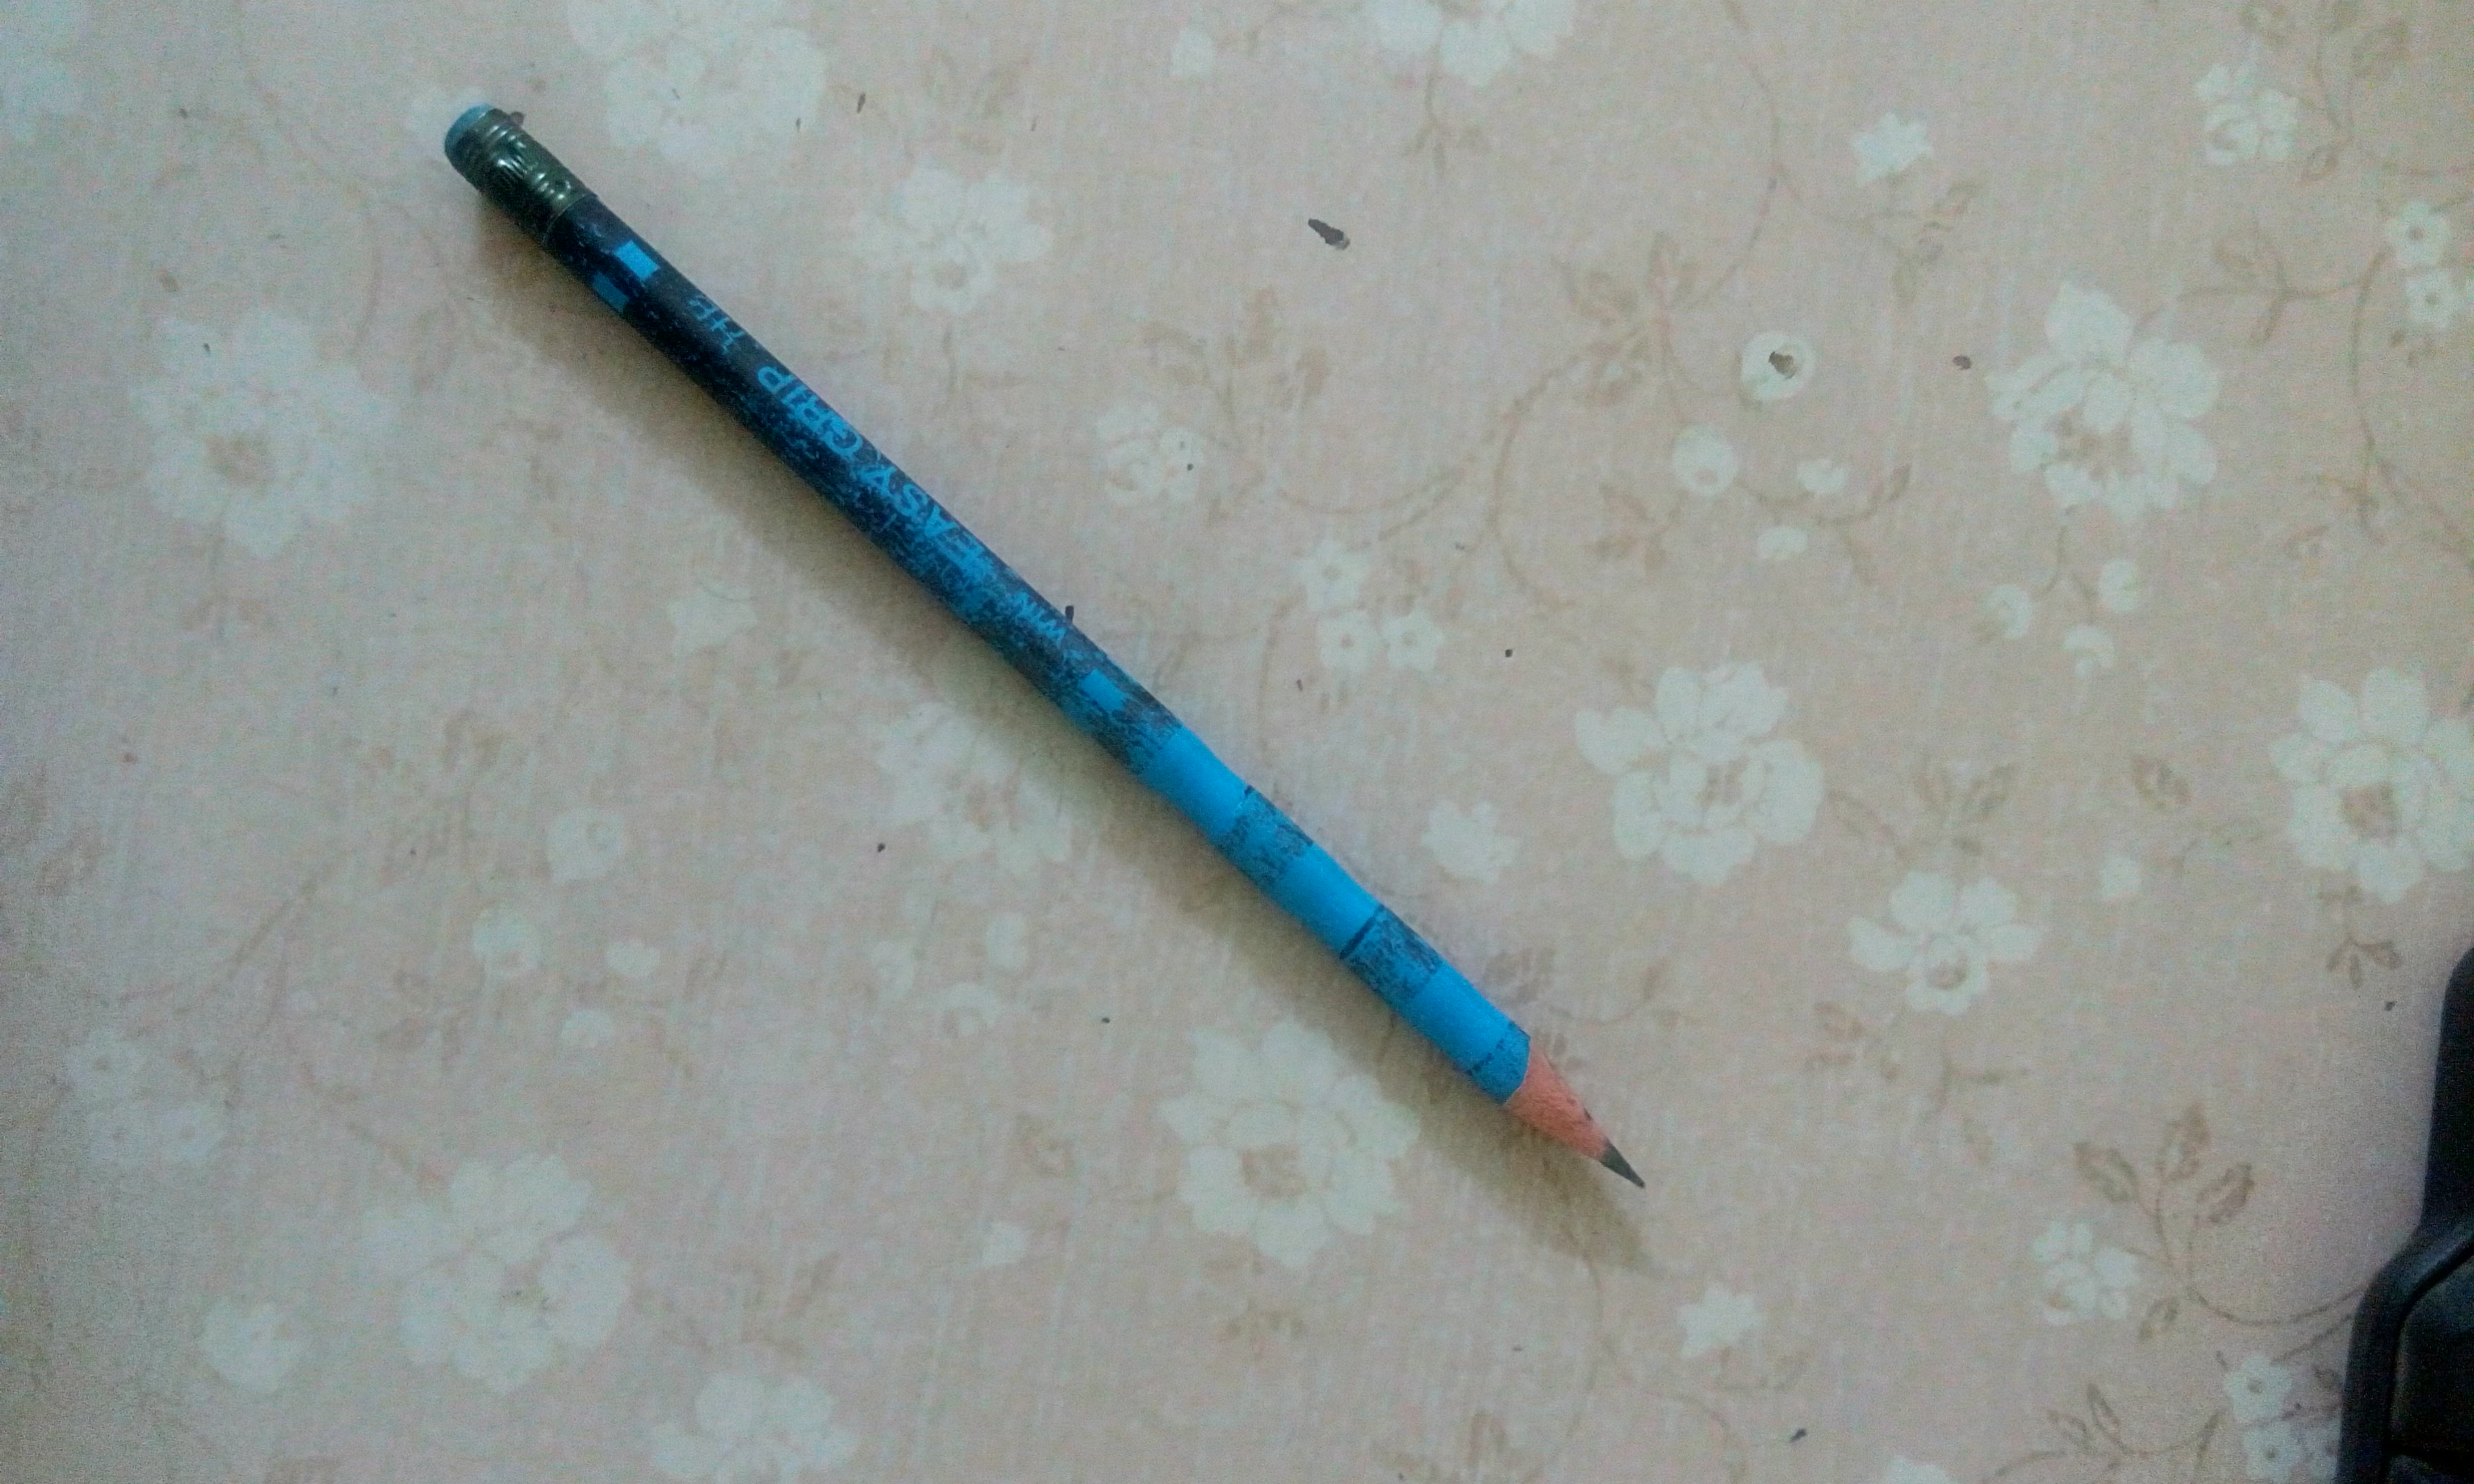pen_tip: (1403, 966, 1711, 1254)
